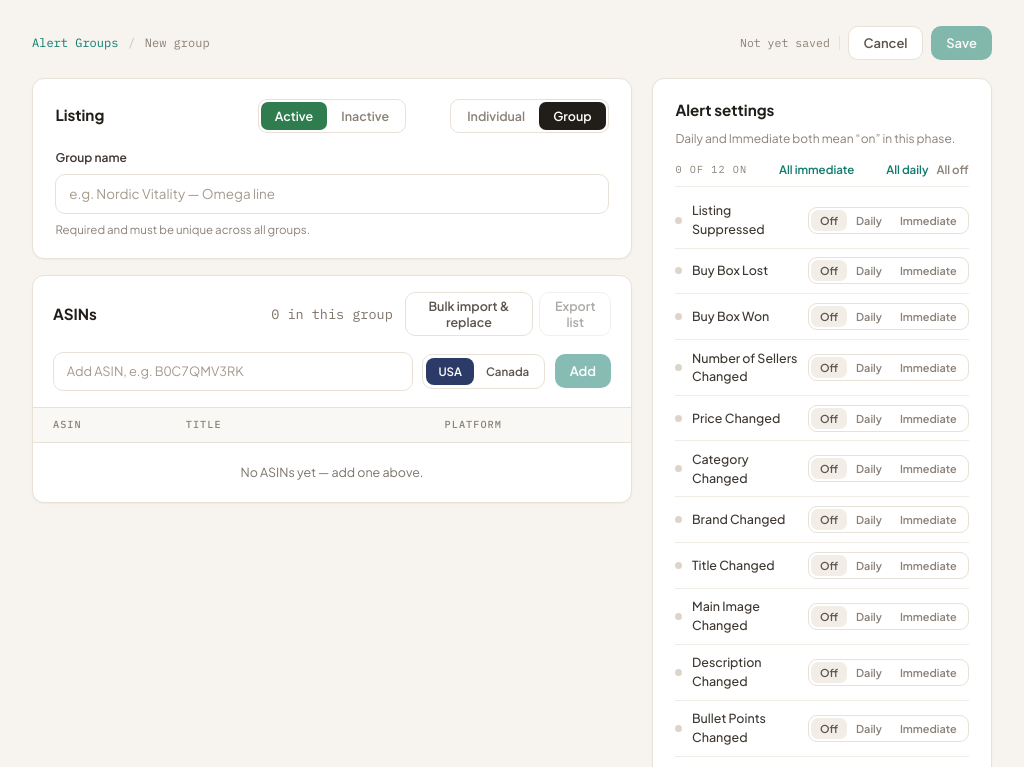
Test: ExclusivesEditorPage — a new group › says so, briefly, when an ASIN is not on the seller account
Type "B000000002" into the field labelled "Add ASIN" at (233, 371), box [53,352,413,391]
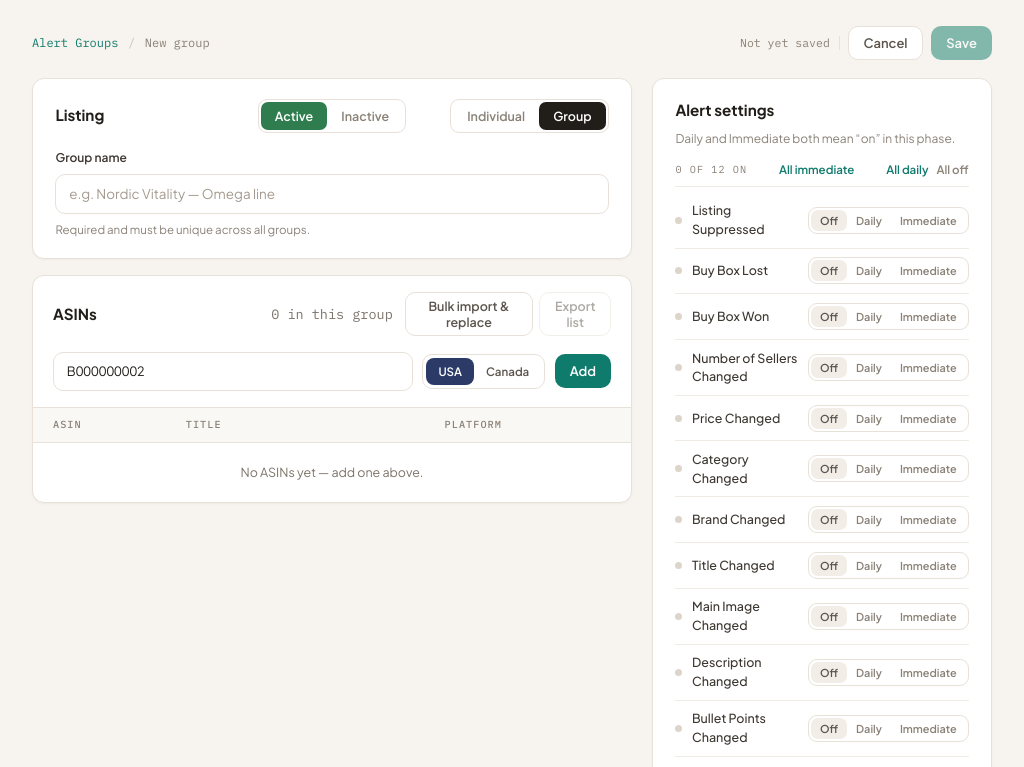
Click the button "Add" at (583, 371), box [555,354,611,388]
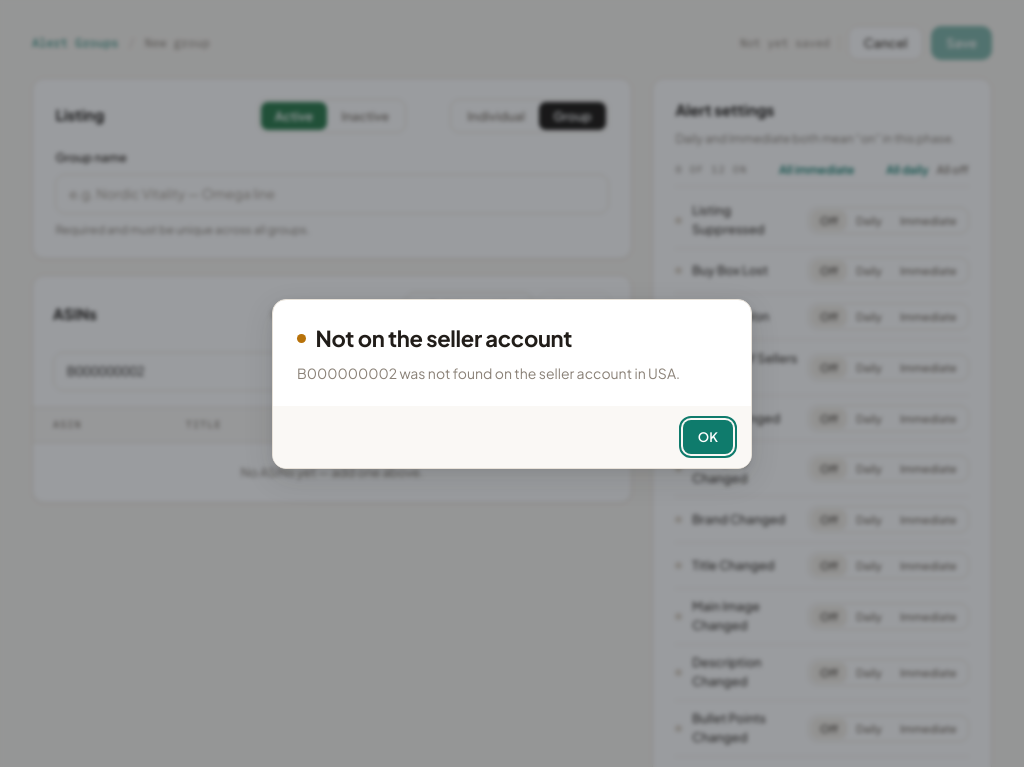
Check: the dialog shows "was not found on the seller account", box [297,364,680,382]
